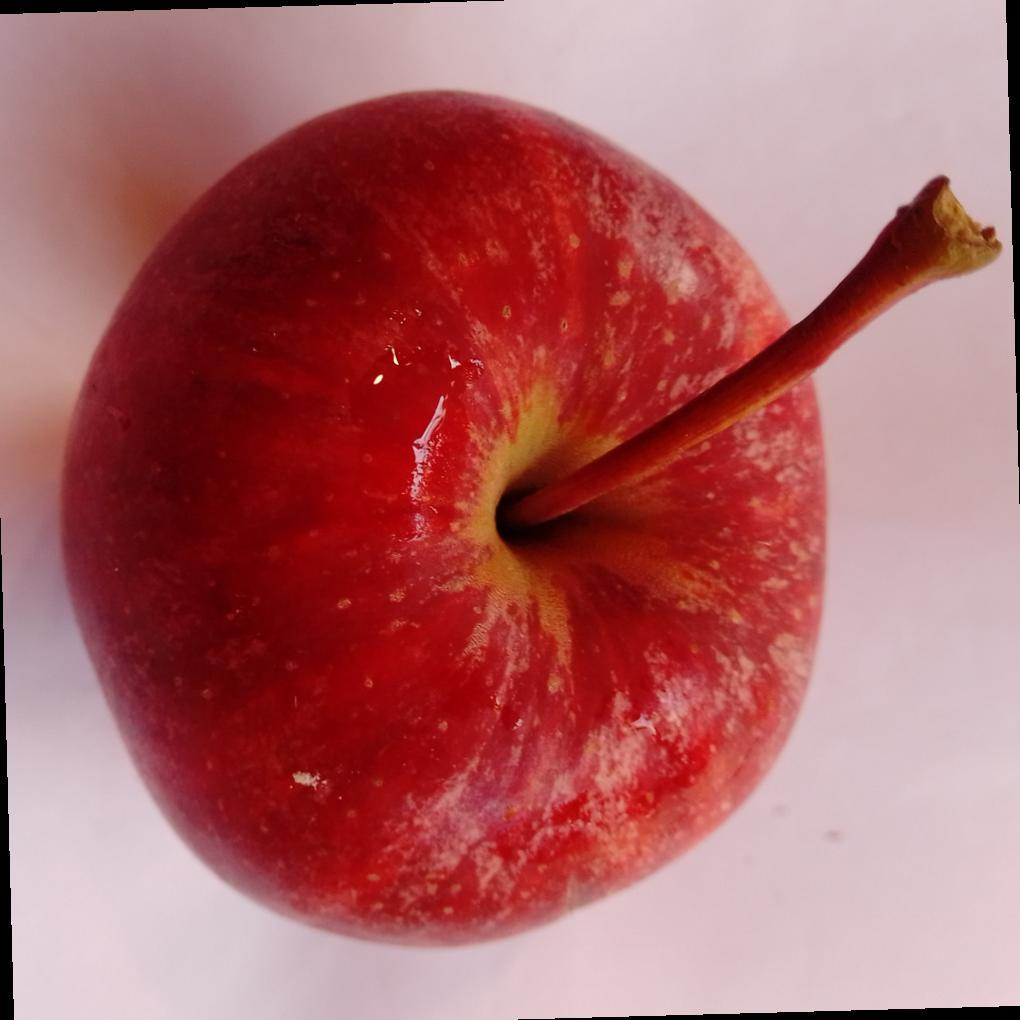FreshGuava: (57, 91, 1001, 953)
